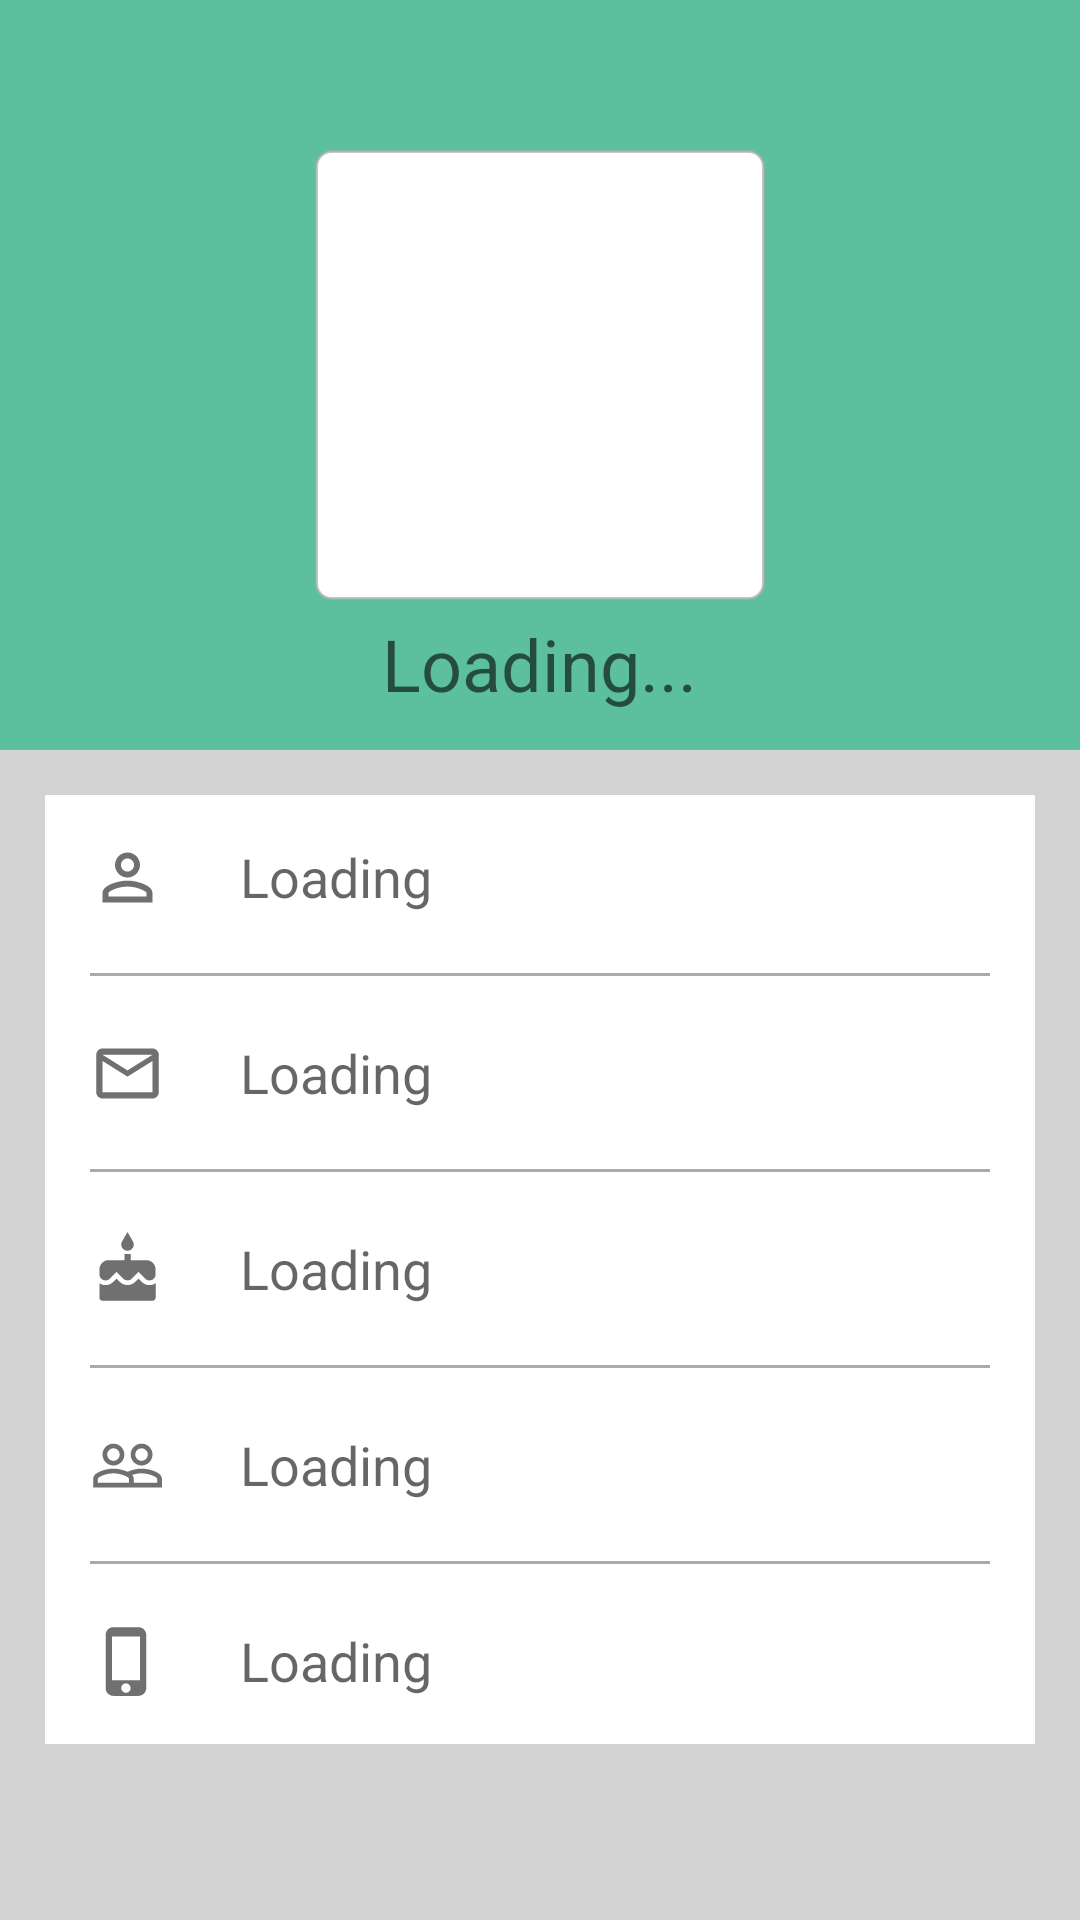

Named icons in this screenshot (1080px x 1920px) and their bounding boxes, (x1, y1, x2, y2):
birthday: (99, 1232, 156, 1301)
email: (96, 1048, 159, 1099)
mobile: (105, 1627, 147, 1696)
profile: (102, 852, 153, 903)
